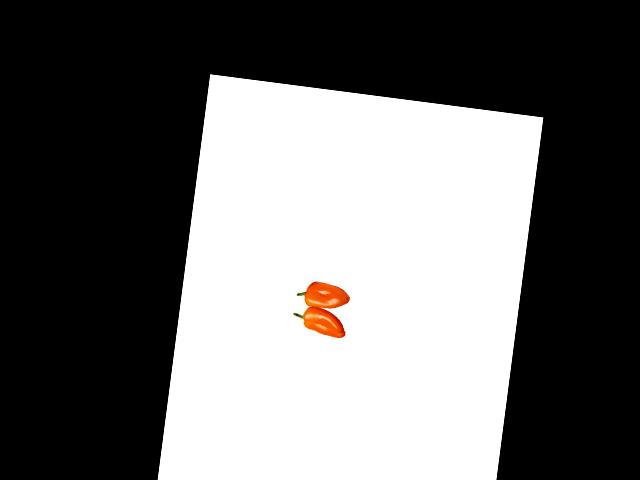bell_pepper: (294, 273, 362, 314)
